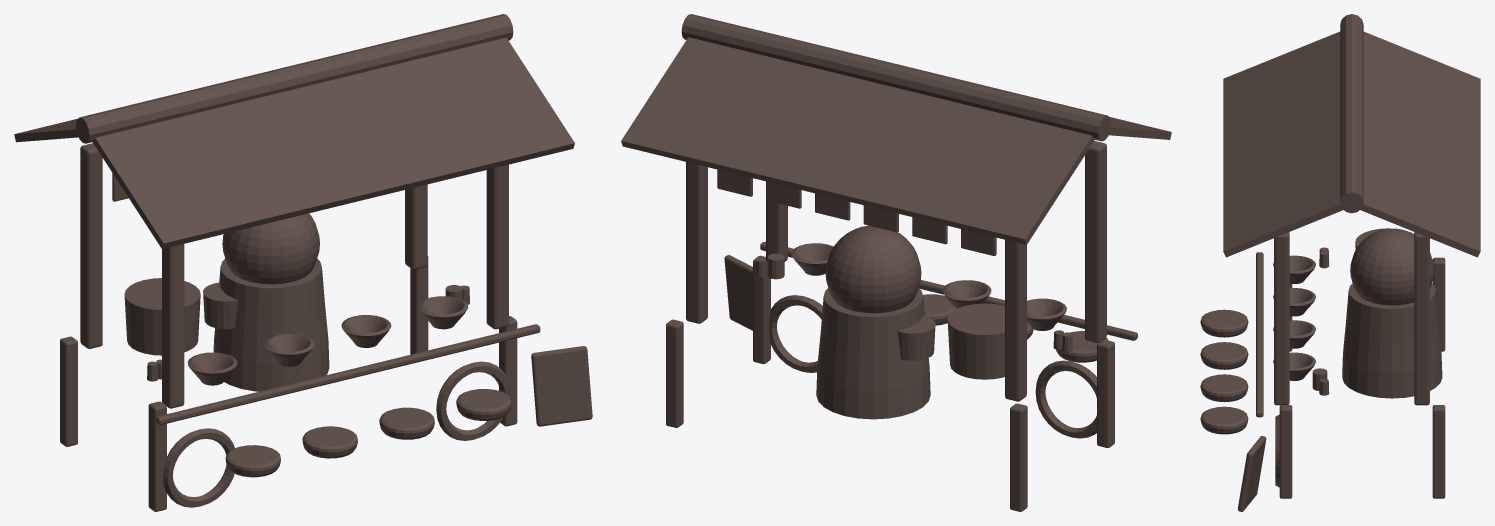
Rendered from ramenStall.ol.glb.
3 renders of one model, left to right at view 1: azimuth 30°, elevation 25°; view 2: azimuth 150°, elevation 25°; view 3: azimuth 270°, elevation 25°, orthographic. The views are drawn at different scales.
Parts seen in each view (by area): view 1: outline; view 2: outline; view 3: outline.
Boxes of the visible parts, x1=… form: outline: x1=14, y1=14, x2=592, y2=511; outline: x1=621, y1=14, x2=1171, y2=511; outline: x1=1200, y1=14, x2=1480, y2=511.
Bounding box in the file's own units: 10.42 × 8.41 × 6.6.
